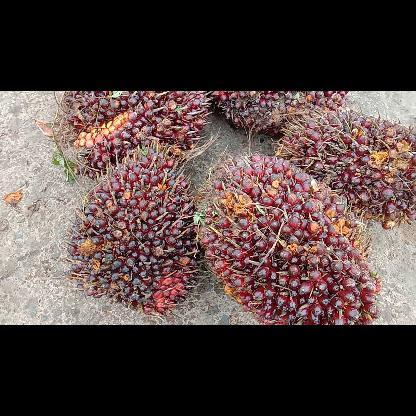Kurang masak: (192, 148, 382, 324), (63, 142, 205, 318), (273, 106, 415, 232), (55, 92, 210, 178), (206, 91, 350, 135)
